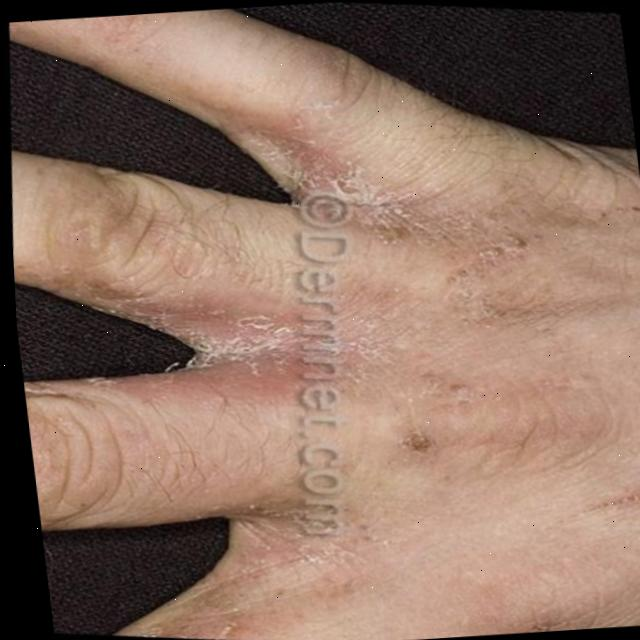Eczema: (86, 258, 404, 409), (224, 109, 451, 261), (201, 489, 391, 614), (424, 219, 530, 324)
